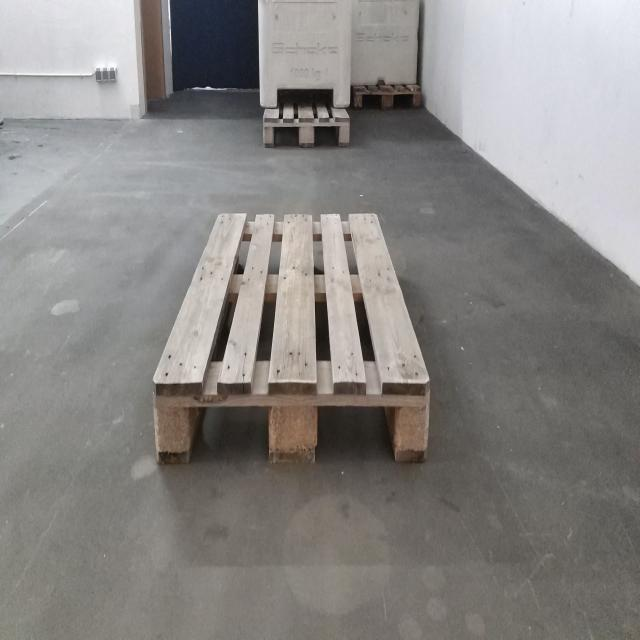block: (265, 380, 324, 471), (385, 373, 437, 466), (150, 377, 192, 466), (298, 113, 316, 150), (260, 116, 276, 148), (339, 113, 352, 150), (379, 86, 395, 110), (411, 84, 423, 112), (354, 86, 363, 108)
front: (147, 378, 432, 472), (261, 110, 350, 154), (353, 82, 424, 118)
